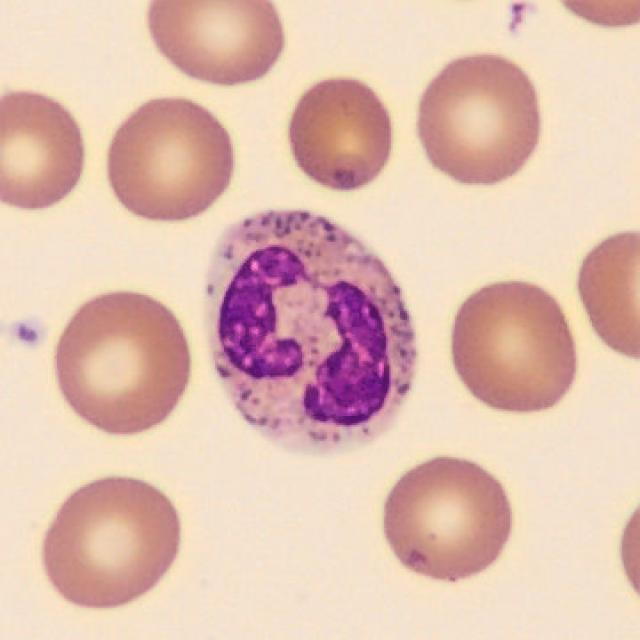Neutrofilo segmentado: (206, 210, 416, 457)
